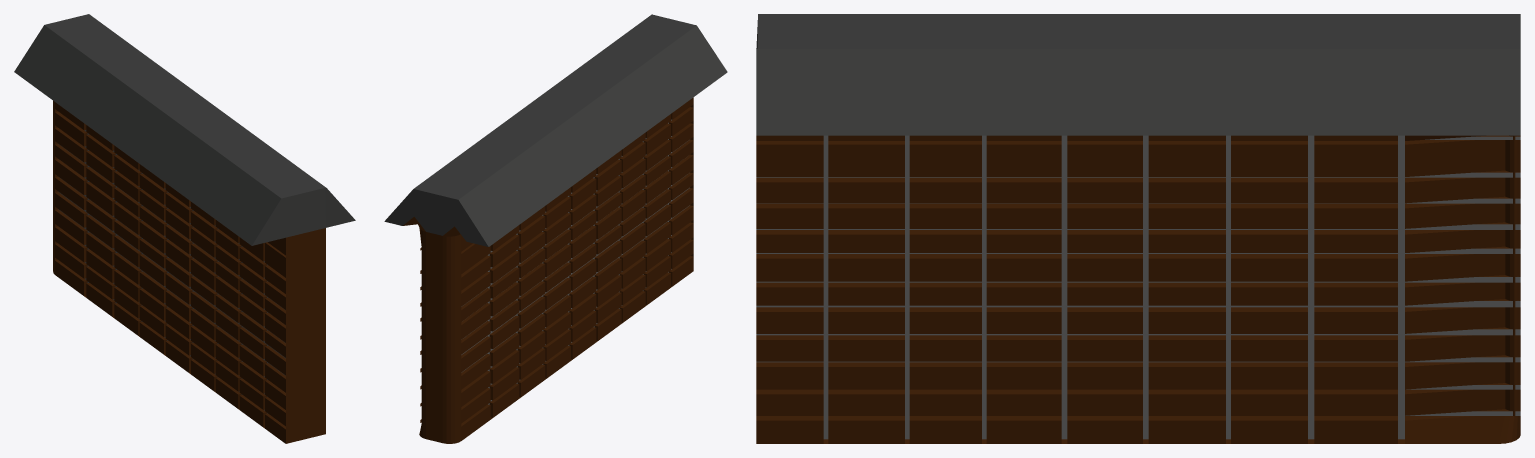
Rendered from muur.fbx.
3 views of the same model, side by side, from view 1: azimuth 30°, elevation 25°; view 2: azimuth 150°, elevation 25°; view 3: azimuth 270°, elevation 25° (orthographic). The views are drawn at different scales.
Visible parts, largest first — view 1: Cube; view 2: Cube; view 3: Cube.
Part boxes in pixels (<box>): Cube: <box>14,14,355,443</box>; Cube: <box>384,14,727,443</box>; Cube: <box>756,14,1520,443</box>.
Size of the model in its own units: 519 by 1171 by 2051.
